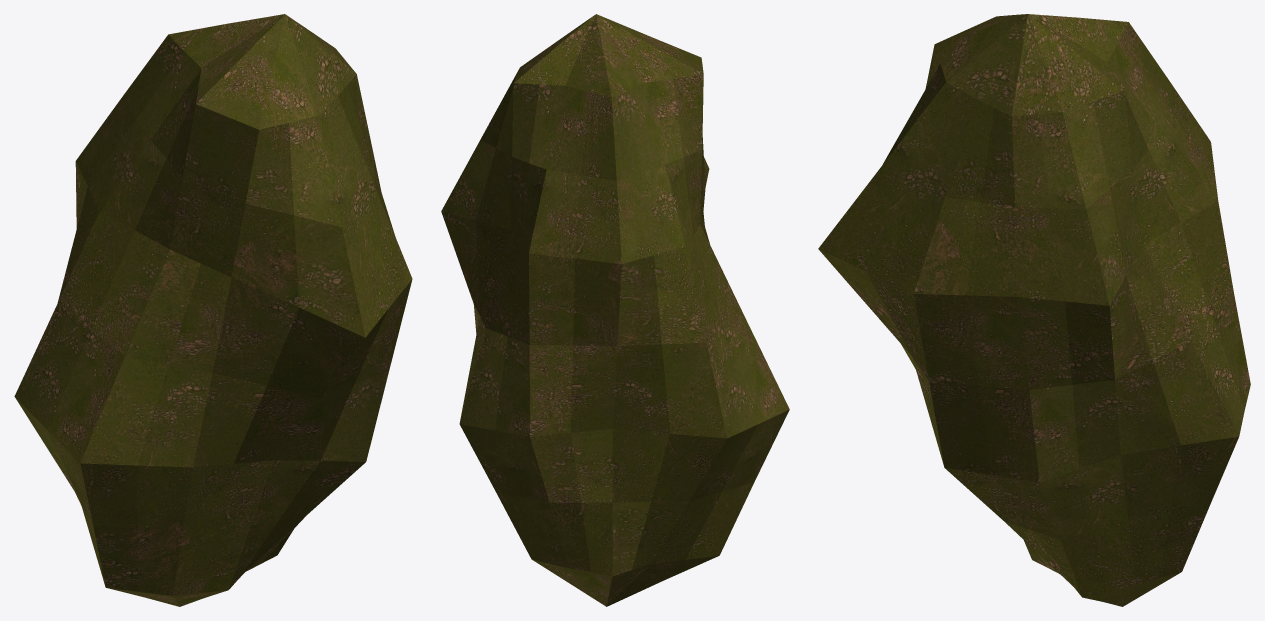
Rendered from shard_2.glb.
3 views of the same model, side by side, from view 1: azimuth 30°, elevation 25°; view 2: azimuth 150°, elevation 25°; view 3: azimuth 270°, elevation 25° (orthographic). The views are drawn at different scales.
Visible parts, largest first — view 1: shard; view 2: shard; view 3: shard.
Part boxes in pixels (x1=…): shard: x1=14, y1=14, x2=412, y2=606; shard: x1=441, y1=14, x2=789, y2=606; shard: x1=818, y1=14, x2=1250, y2=606.
Size of the model in its own units: 1.7 by 2.91 by 1.84.
Materials: 1 (1 with a texture image).
